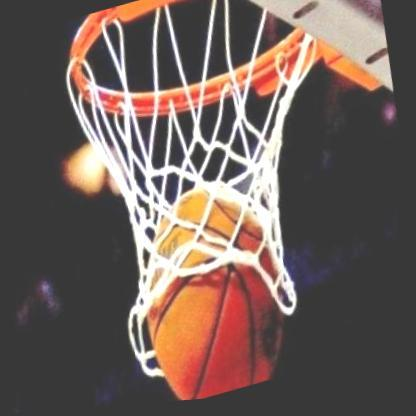basketball: (114, 158, 321, 408)
